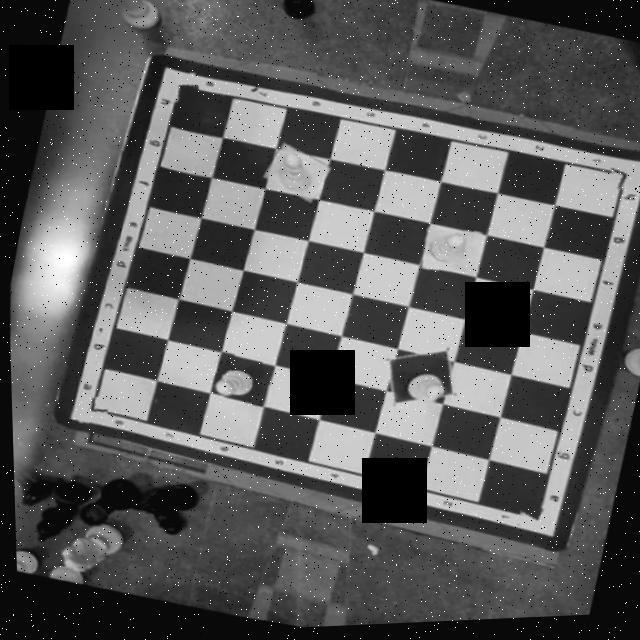chess-table-corners: (160, 67, 203, 109), (68, 389, 112, 429), (601, 158, 640, 202), (510, 502, 552, 540)
